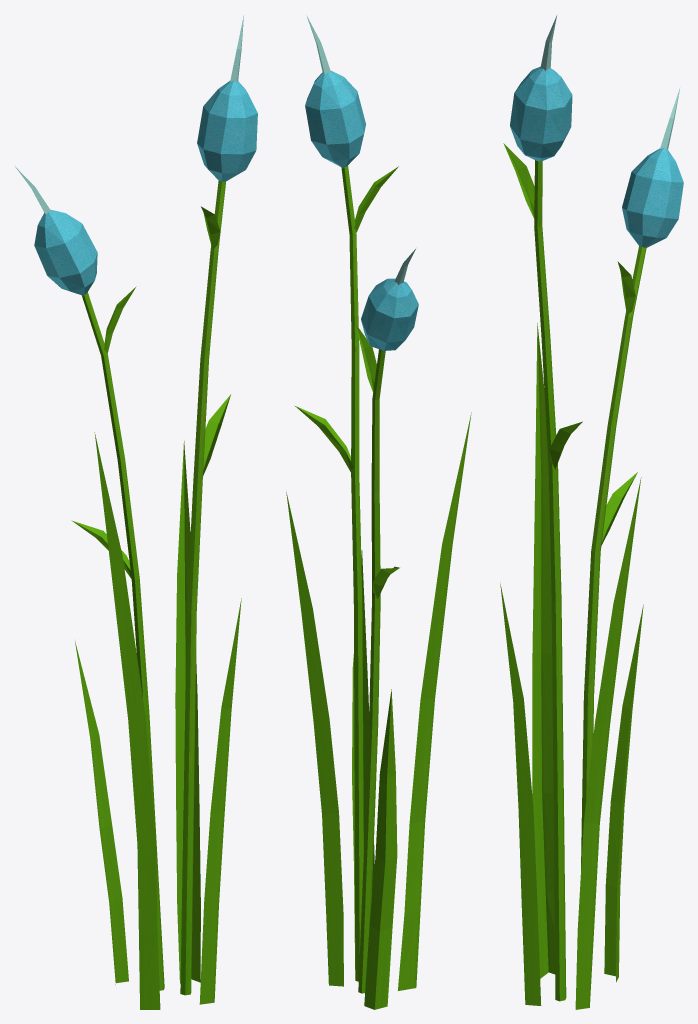
Rendered from PuffReed2_Blue.fbx.
The picture shows the model from 3 angles, left to right: view 1: azimuth 30°, elevation 25°; view 2: azimuth 150°, elevation 25°; view 3: azimuth 270°, elevation 25°; orthographic projection. The views are drawn at different scales.
Visible parts, largest first — view 1: Mesh; view 2: Mesh; view 3: Mesh.
Boxes of the visible parts, bbox=[...] form: Mesh: bbox=[15, 15, 257, 1009]; Mesh: bbox=[286, 15, 471, 1009]; Mesh: bbox=[500, 15, 683, 1009].
Size of the model in its own units: 76.66 by 405 by 66.5.
